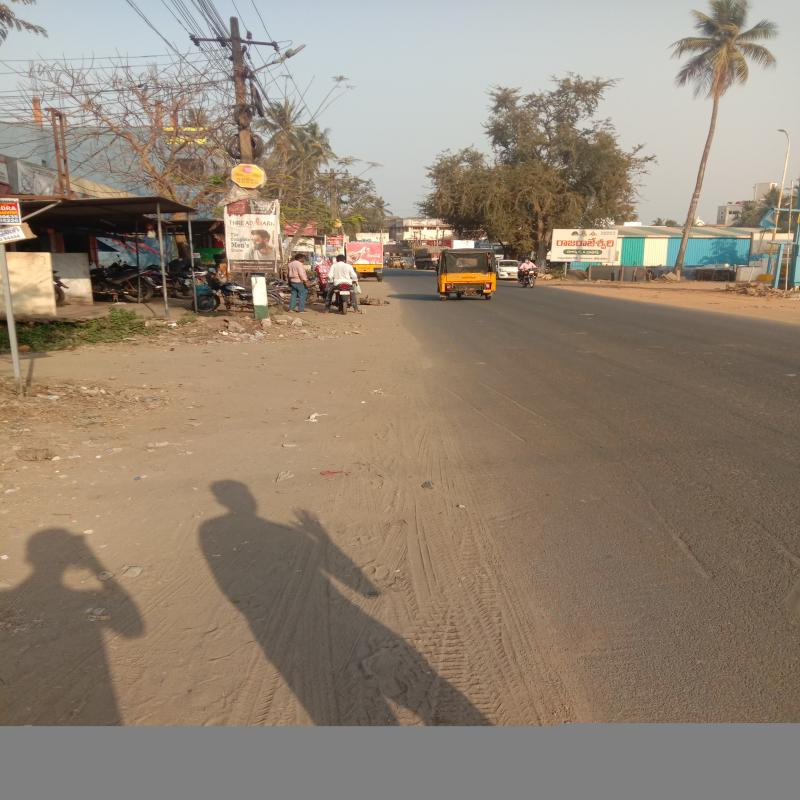auto: (434, 252, 493, 301)
